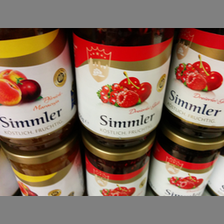jam: (72, 29, 174, 148), (1, 29, 77, 151), (164, 28, 224, 140), (149, 126, 224, 198), (80, 134, 156, 196), (1, 147, 87, 195)
